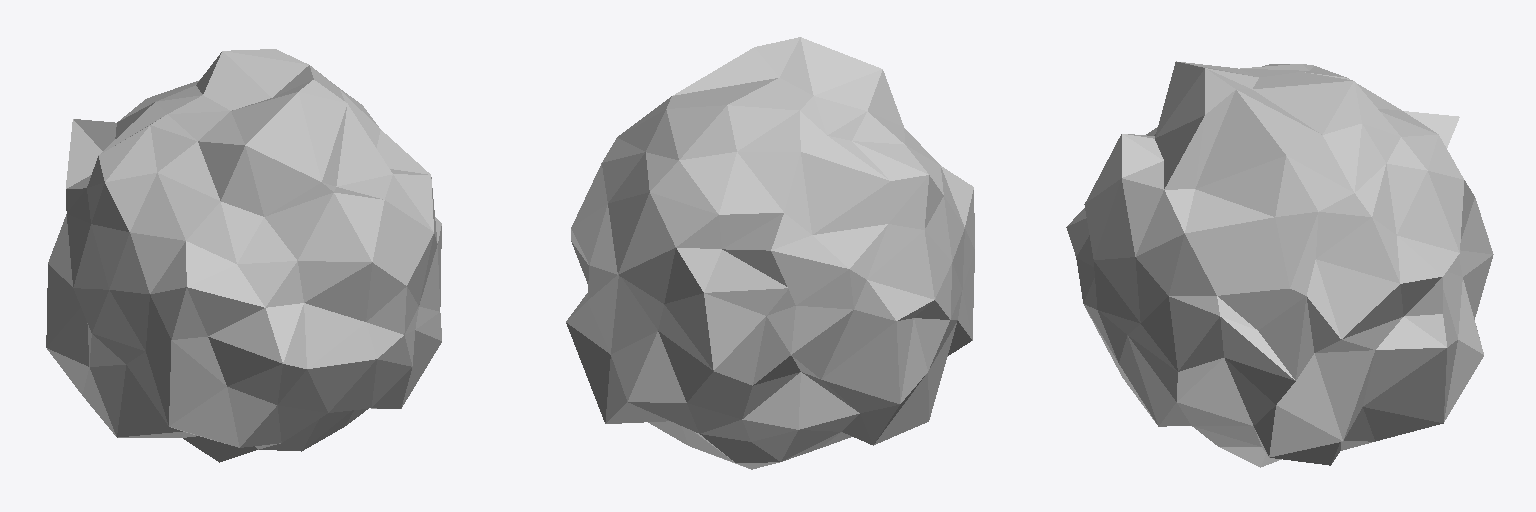
File: fire_000015.obj
3 renders of one model, left to right at view 1: azimuth 30°, elevation 25°; view 2: azimuth 150°, elevation 25°; view 3: azimuth 270°, elevation 25°, orthographic.
Parts seen in each view (by area): view 1: Icosphere; view 2: Icosphere; view 3: Icosphere.
Part boxes in pixels (left/top/right/bottom): Icosphere: left=46, top=49, right=441, bottom=462; Icosphere: left=566, top=37, right=974, bottom=469; Icosphere: left=1066, top=61, right=1493, bottom=467.
Bounding box in the file's own units: 1.52 × 1.58 × 1.61.